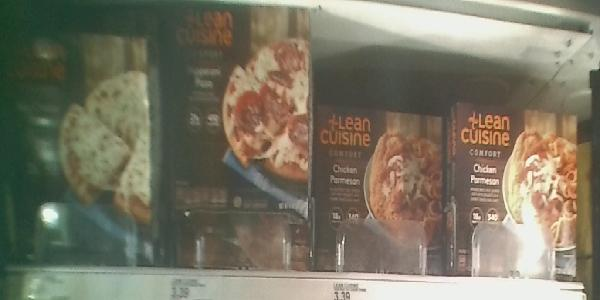pizza1: (1, 24, 169, 266), (170, 1, 310, 270), (312, 105, 447, 275), (454, 102, 578, 279)
